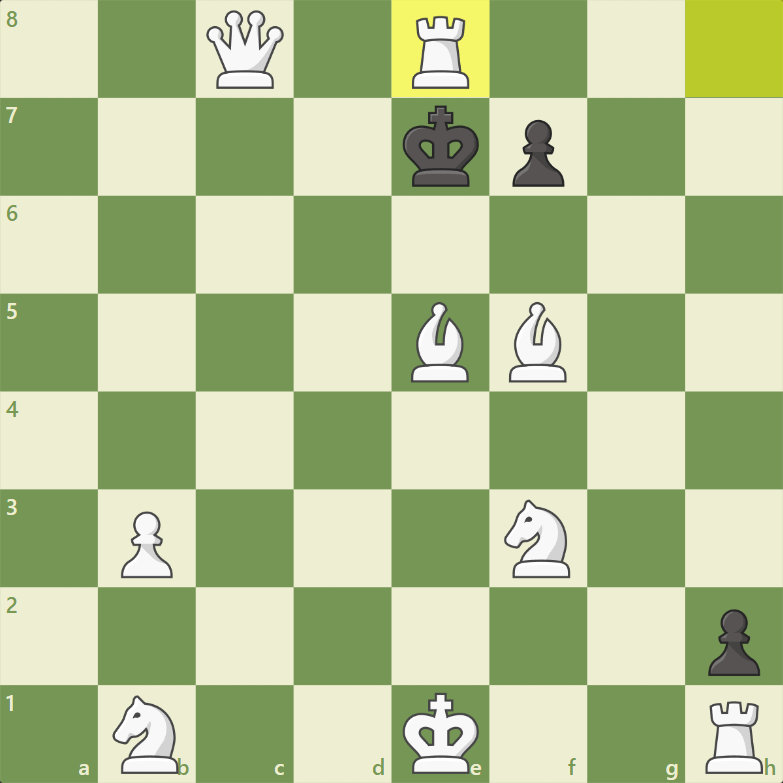B: (407, 299, 472, 386), (506, 300, 571, 386)
K: (398, 691, 481, 777)
N: (499, 498, 574, 582), (111, 692, 183, 778)
P: (118, 508, 175, 583)
Q: (204, 6, 286, 92)
R: (703, 697, 770, 778), (408, 11, 473, 94)
k: (401, 103, 481, 191)
p: (706, 605, 764, 680), (509, 117, 567, 192)
